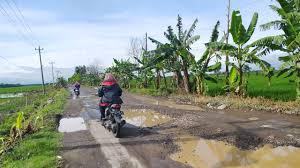Pothole: (54, 98, 298, 167)
